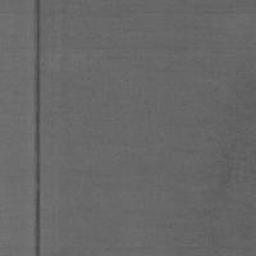Welding line: (35, 0, 41, 256)
